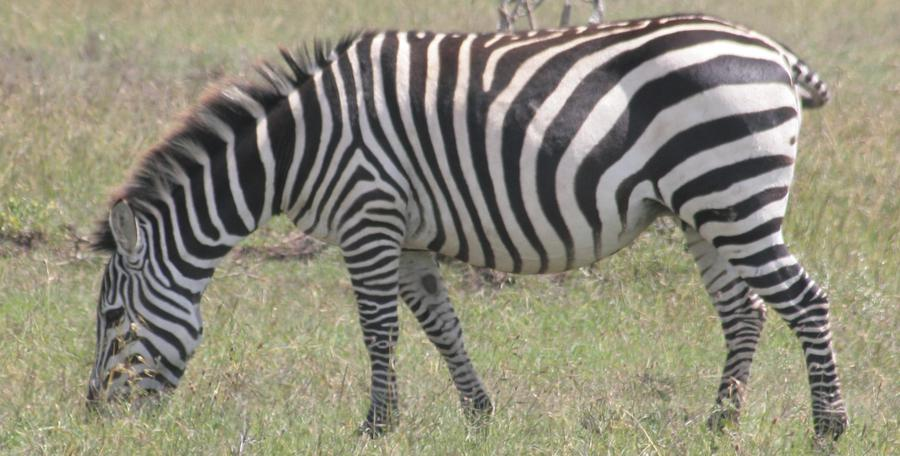zebra_plains: (298, 10, 784, 250)
